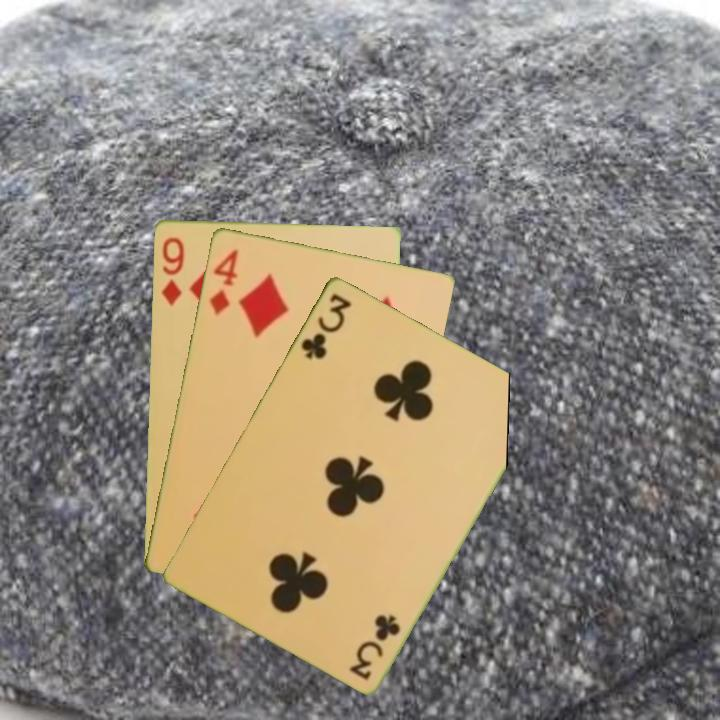3c: (297, 289, 354, 362), (347, 610, 403, 683)
4d: (205, 245, 241, 317)
9d: (157, 233, 186, 309)
